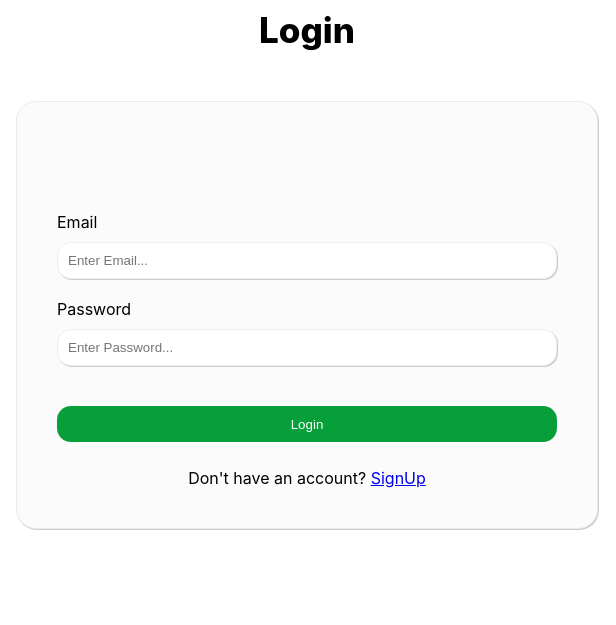
Scenario: Login Page › shows error when email is not provided
This screenshot has width=616, height=625.
Click the button with test id "login-btn" at (307, 424), box top-left (57, 406), bottom-right (557, 442)
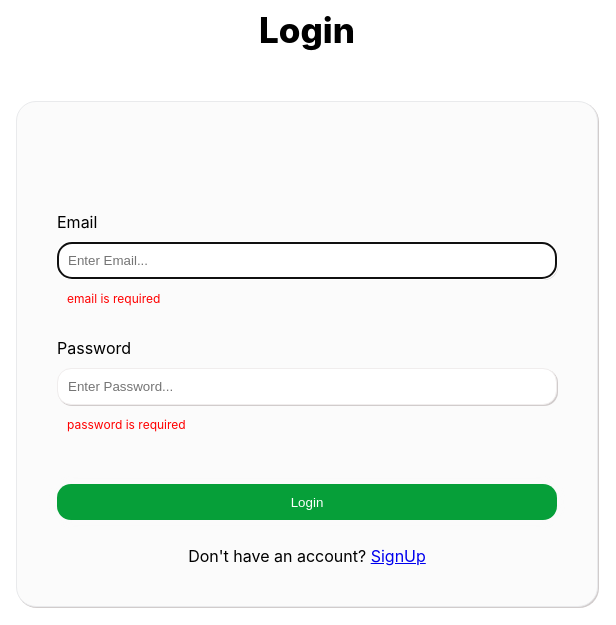
expect the text "email is required" is shown: met, box top-left (67, 291), bottom-right (160, 306)
